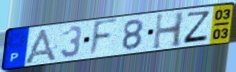3: (61, 24, 83, 60)
8: (122, 18, 144, 52)
A: (22, 27, 59, 64)
F: (87, 17, 120, 59)
H: (151, 11, 186, 51)
Z: (182, 10, 212, 45)
